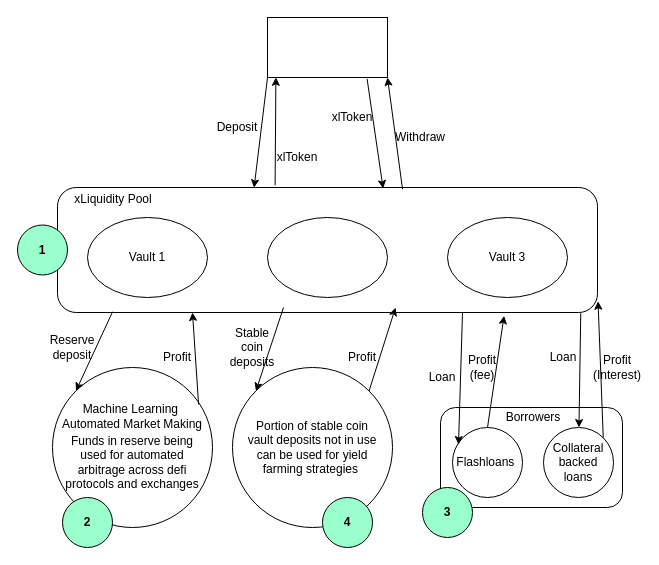
Image size: 659x565. Some labels were removed from this diagram. The centre of each missing label's shape, as x and y in pixels:
"User" belongs at point (327, 47).
"Vault 2" belongs at point (327, 257).
